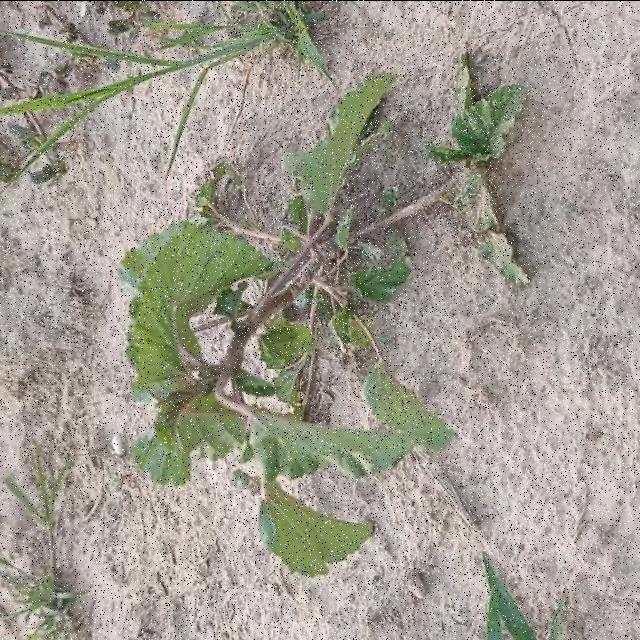weed: (120, 72, 454, 575), (429, 52, 529, 282)
